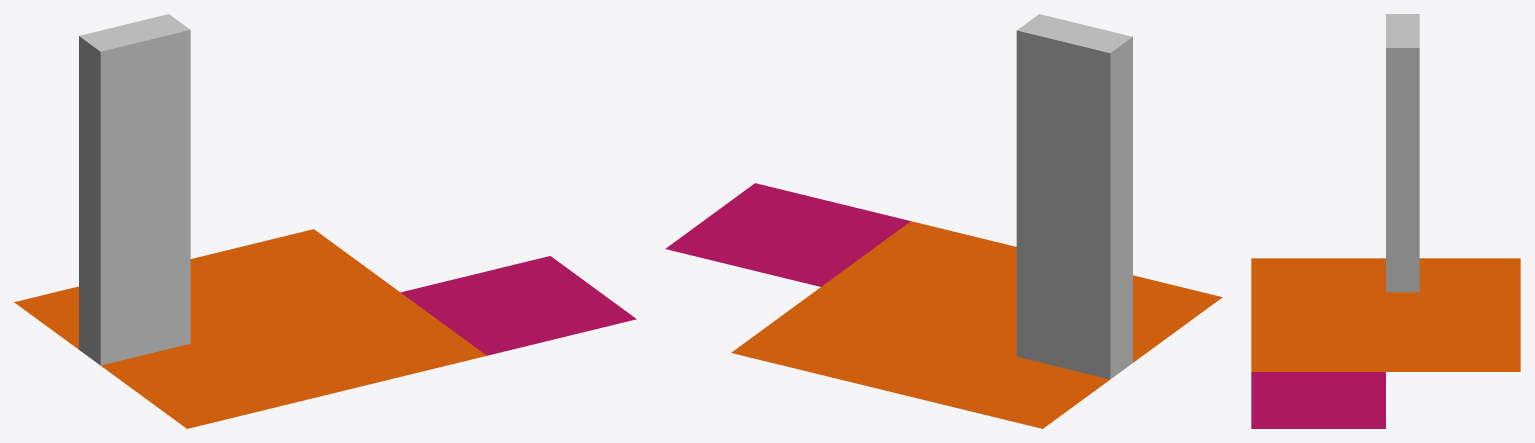
The model's file is Scale References.fbx.
3 renders of one model, left to right at view 1: azimuth 30°, elevation 25°; view 2: azimuth 150°, elevation 25°; view 3: azimuth 270°, elevation 25°, orthographic. The views are drawn at different scales.
Parts seen in each view (by area): view 1: 2mx2m Reference, Body1, 1mx1m Reference; view 2: 2mx2m Reference, Body1, 1mx1m Reference; view 3: 2mx2m Reference, Body1, 1mx1m Reference.
Part boxes in pixels (box(x1,y1,x2,y2)): 2mx2m Reference: box(14, 229, 486, 428); Body1: box(79, 14, 190, 365); 1mx1m Reference: box(401, 256, 636, 355); 2mx2m Reference: box(731, 221, 1222, 428); Body1: box(1016, 14, 1132, 379); 1mx1m Reference: box(665, 183, 910, 286); 2mx2m Reference: box(1251, 258, 1520, 371); Body1: box(1386, 14, 1419, 292); 1mx1m Reference: box(1251, 372, 1385, 428).
Size of the model in its own units: 300 by 200 by 200.
